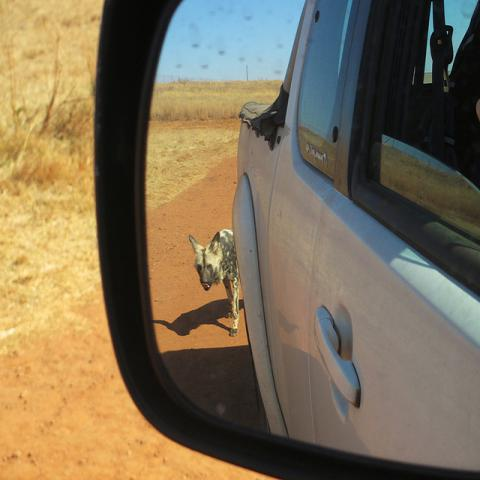truck: (233, 2, 479, 471)
